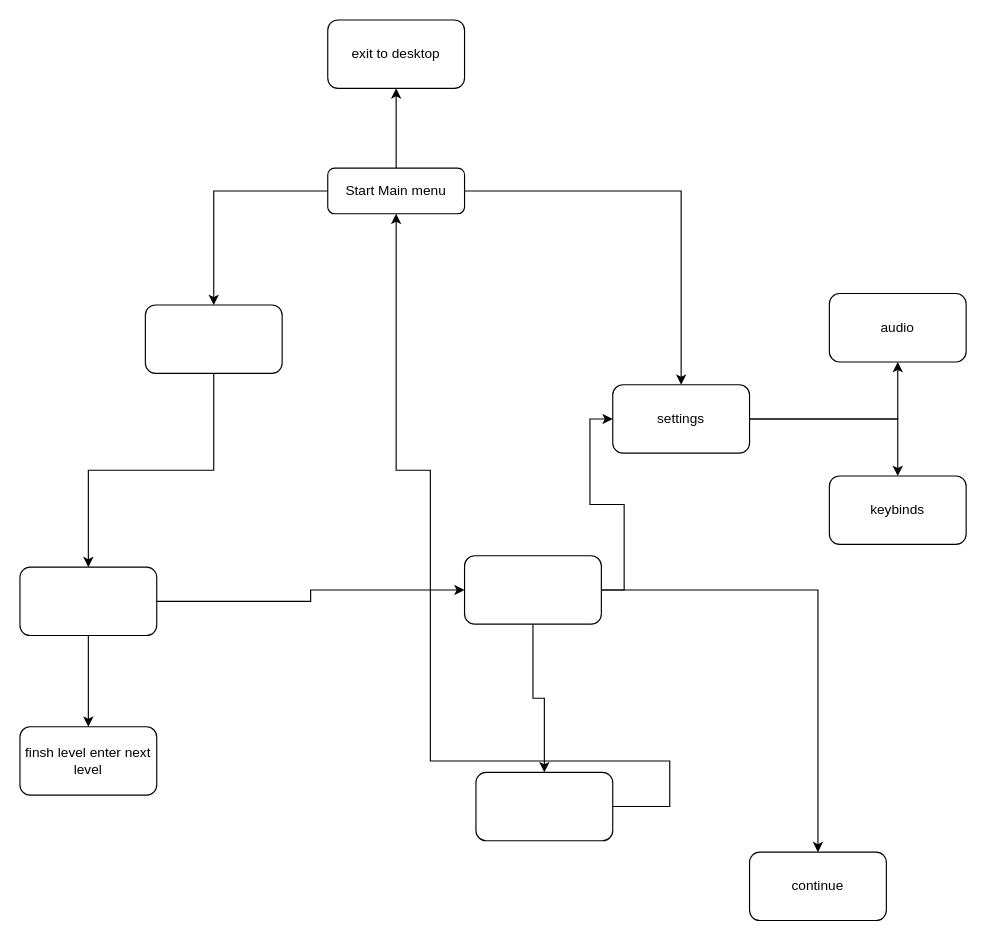
Image size: 986x941. Some labels were removed from this diagram. Each missing label, with the centre of its shape:
enter level game start: [88,601]
exit to main menu: [544,806]
pause: [532,589]
start game: [213,338]
